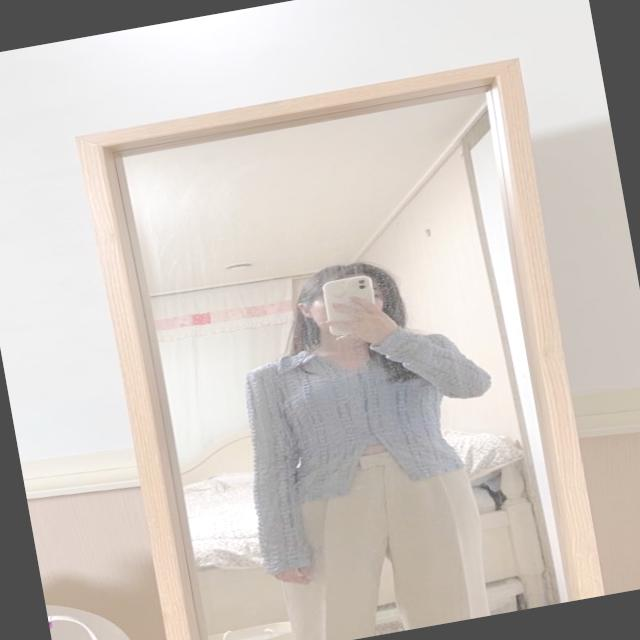cardigan: (228, 314, 516, 580)
slacks: (250, 437, 503, 640)
